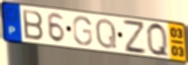6: (46, 12, 66, 44)
B: (21, 8, 45, 42)
G: (72, 15, 94, 47)
Q: (144, 21, 171, 60), (94, 17, 118, 50)
Z: (121, 18, 148, 56)
